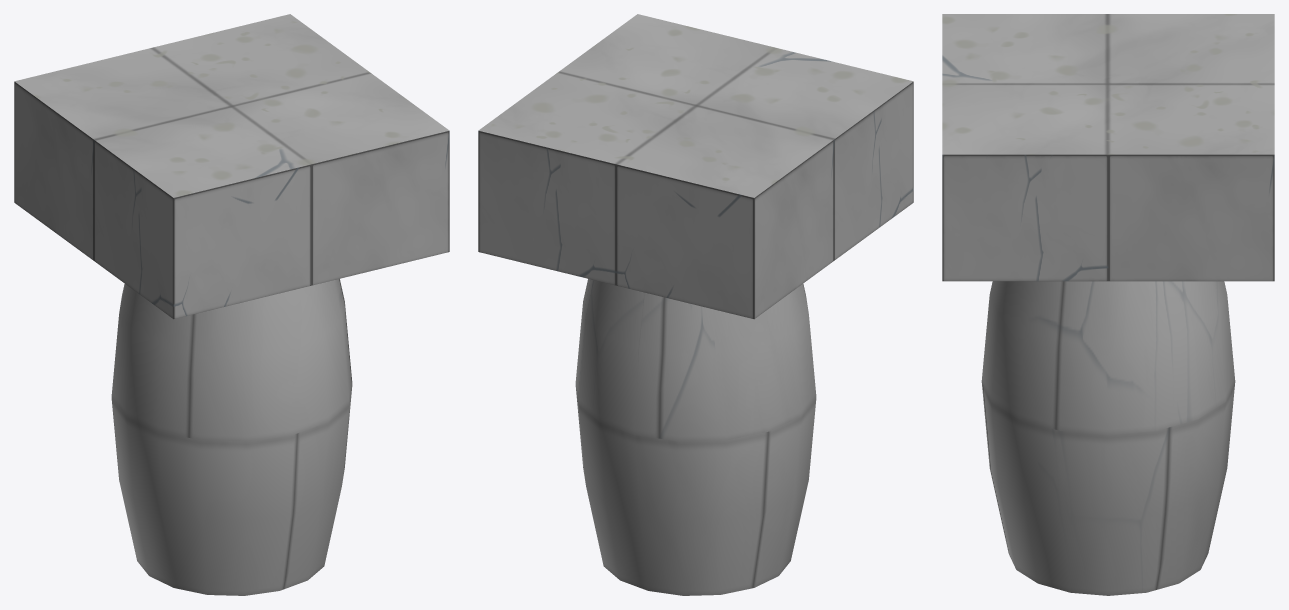
File: Trim_Stone_SmallColonne02.fbx
3 views of the same model, side by side, from view 1: azimuth 30°, elevation 25°; view 2: azimuth 150°, elevation 25°; view 3: azimuth 270°, elevation 25° (orthographic). The views are drawn at different scales.
Visible parts, largest first — view 1: Trim_Stone_SmallColonne02; view 2: Trim_Stone_SmallColonne02; view 3: Trim_Stone_SmallColonne02.
Part boxes in pixels (x1,y1,x2,y2): Trim_Stone_SmallColonne02: [14, 14, 449, 595]; Trim_Stone_SmallColonne02: [478, 14, 913, 595]; Trim_Stone_SmallColonne02: [942, 14, 1274, 595].
Bounding box in the file's own units: 200 × 311 × 200.
